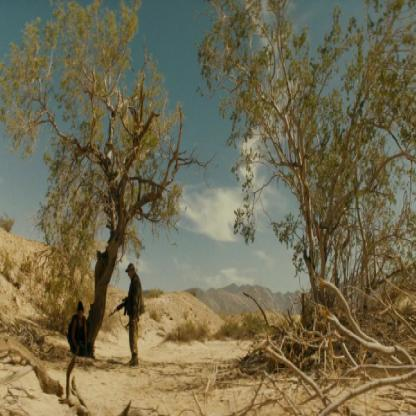Gun: (106, 292, 130, 321)
